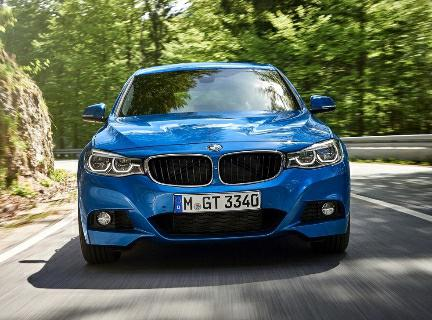宝马-4系: (71, 63, 360, 274)
